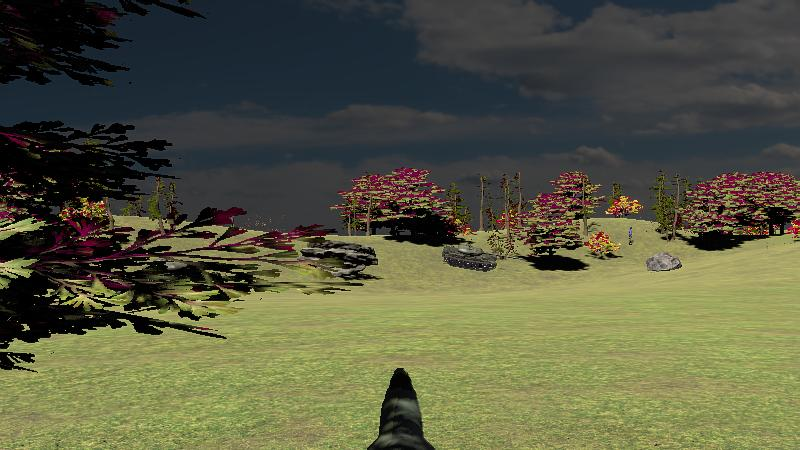Tank: (442, 243, 505, 272)
